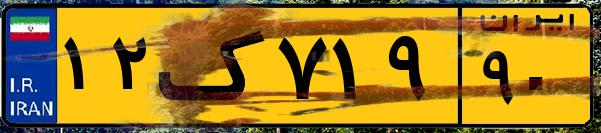0: (525, 38, 570, 115)
1: (330, 28, 385, 110), (57, 26, 110, 100)
2: (110, 28, 158, 98)
7: (270, 28, 330, 110)
9: (385, 28, 445, 110), (475, 38, 525, 113)
ک: (158, 12, 270, 120)
